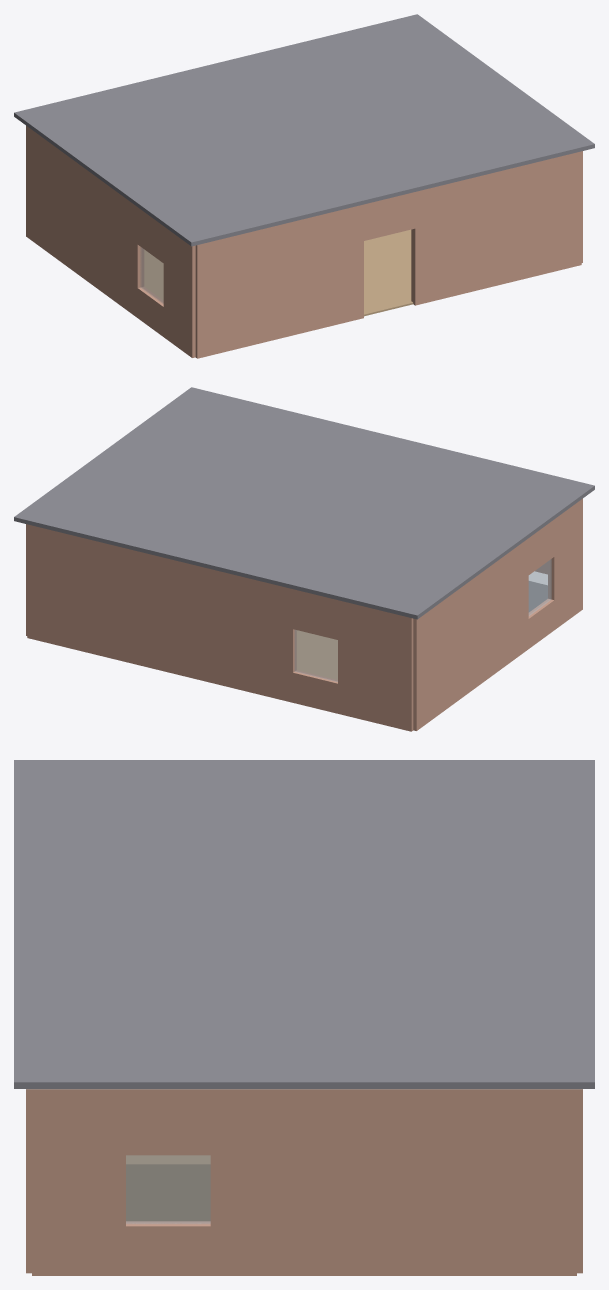
The model's file is library.glb.
The picture shows the model from 3 angles, top to bottom: view 1: azimuth 30°, elevation 25°; view 2: azimuth 150°, elevation 25°; view 3: azimuth 270°, elevation 25°; orthographic projection. The views are drawn at different scales.
Bounding box in the file's own units: 12.6 × 3.62 × 9.6.
